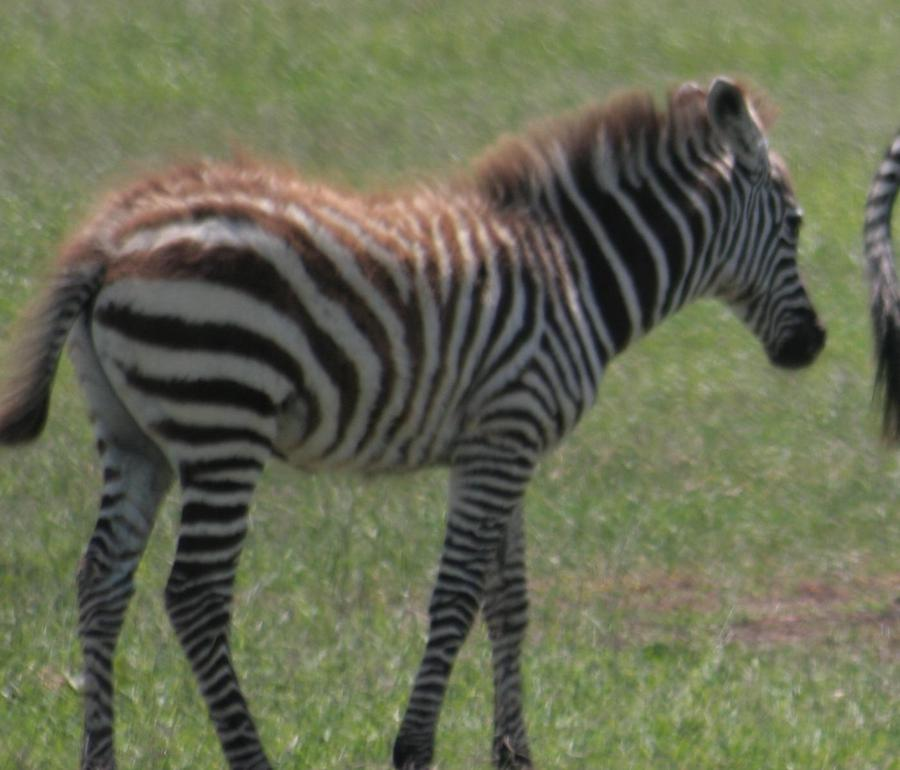zebra_plains: (108, 145, 620, 526)
